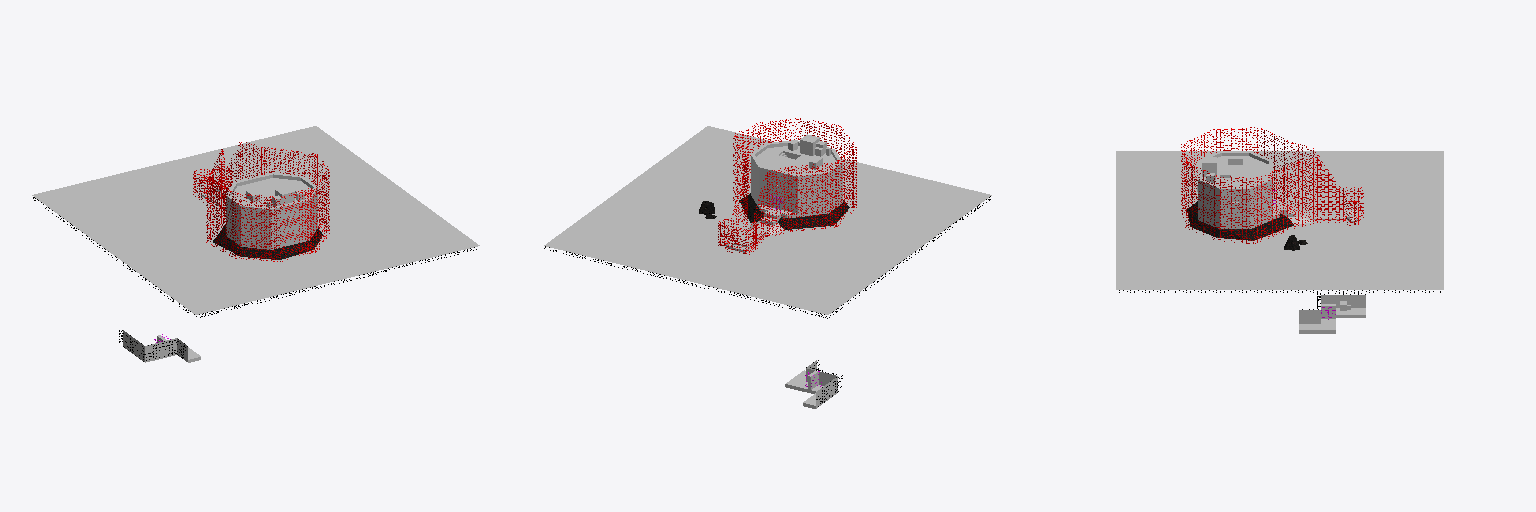
3 views of the same model, side by side, from view 1: azimuth 30°, elevation 25°; view 2: azimuth 150°, elevation 25°; view 3: azimuth 270°, elevation 25° (orthographic).
Visible parts, largest first — view 1: entity0_brush7, entity0_brush4, entity0_brush32, entity0_brush31, entity0_brush90, entity0_brush33, entity0_brush89; view 2: entity0_brush7, entity0_brush4, entity0_brush34, entity0_brush82; view 3: entity0_brush7, entity0_brush4, entity0_brush87, entity0_brush108, entity0_brush28, entity0_brush29.
Part boxes in pixels (bbox=[...]): entity0_brush7: bbox=[32, 126, 479, 317]; entity0_brush4: bbox=[213, 225, 322, 259]; entity0_brush32: bbox=[235, 193, 280, 261]; entity0_brush31: bbox=[279, 188, 317, 261]; entity0_brush90: bbox=[246, 217, 275, 246]; entity0_brush33: bbox=[206, 178, 237, 256]; entity0_brush89: bbox=[276, 212, 304, 244]; entity0_brush7: bbox=[544, 126, 991, 318]; entity0_brush4: bbox=[739, 193, 849, 229]; entity0_brush34: bbox=[788, 163, 837, 231]; entity0_brush82: bbox=[793, 184, 822, 213]; entity0_brush7: bbox=[1116, 151, 1443, 292]; entity0_brush4: bbox=[1187, 201, 1293, 240]; entity0_brush87: bbox=[1217, 198, 1253, 225]; entity0_brush108: bbox=[1217, 161, 1268, 177]; entity0_brush28: bbox=[1254, 163, 1294, 243]; entity0_brush29: bbox=[1217, 176, 1253, 243].
Bounding box in the file's own units: 1408 × 944 × 1408.
44 materials, 5 textured.